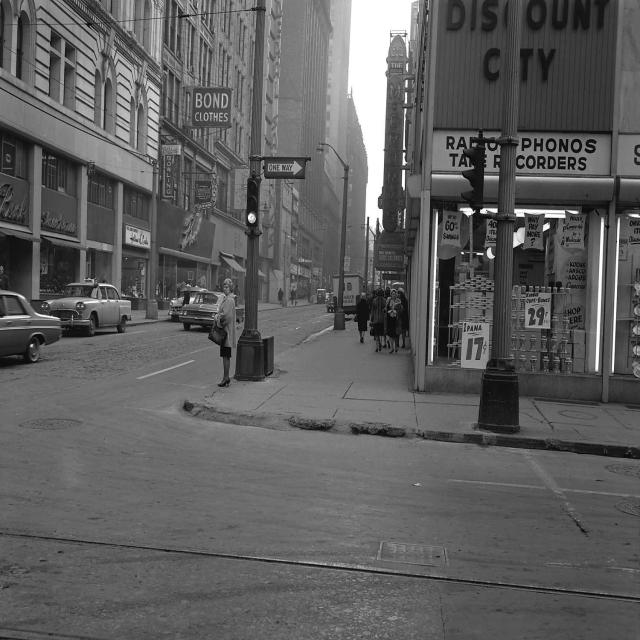body: (207, 277, 238, 388), (384, 287, 404, 356), (368, 288, 386, 354), (352, 292, 370, 344), (395, 287, 410, 349), (100, 278, 110, 300), (183, 284, 192, 308), (233, 284, 240, 307), (277, 286, 284, 306), (290, 287, 296, 305), (368, 289, 376, 300), (383, 286, 390, 296), (214, 285, 220, 293)
